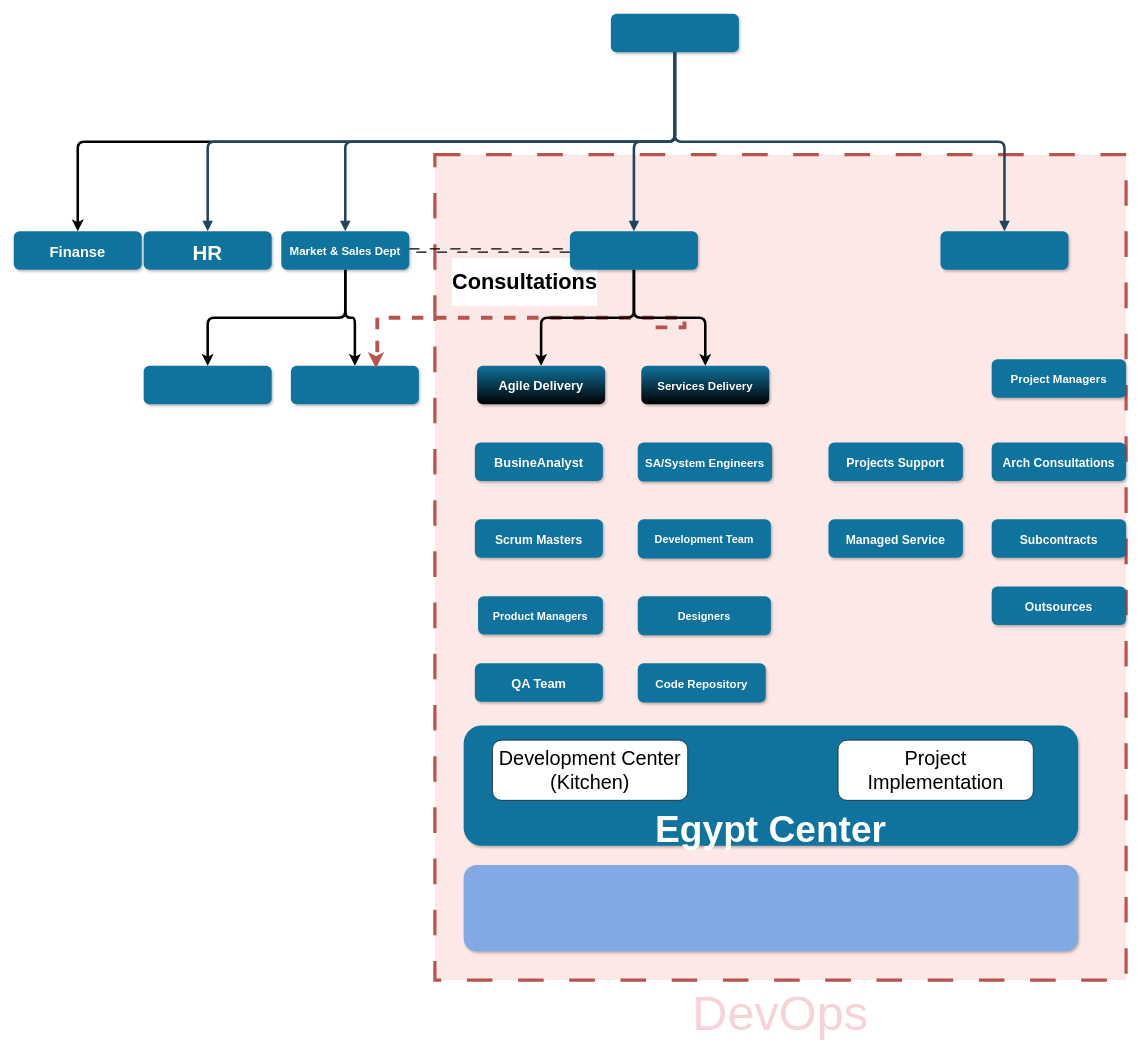
Some shapes in this 1140 by 1053 pixel diagram are drawn without their labels. The centre of each missing label's shape, as x and y in pixels:
Accounts Managers: point (208, 385)
CEO: point (675, 33)
CTO: point (634, 251)
DEV/OPS JIRA Regulatory and Enforcement Process: point (771, 909)
PMO: point (1005, 251)
Presales: point (355, 385)
